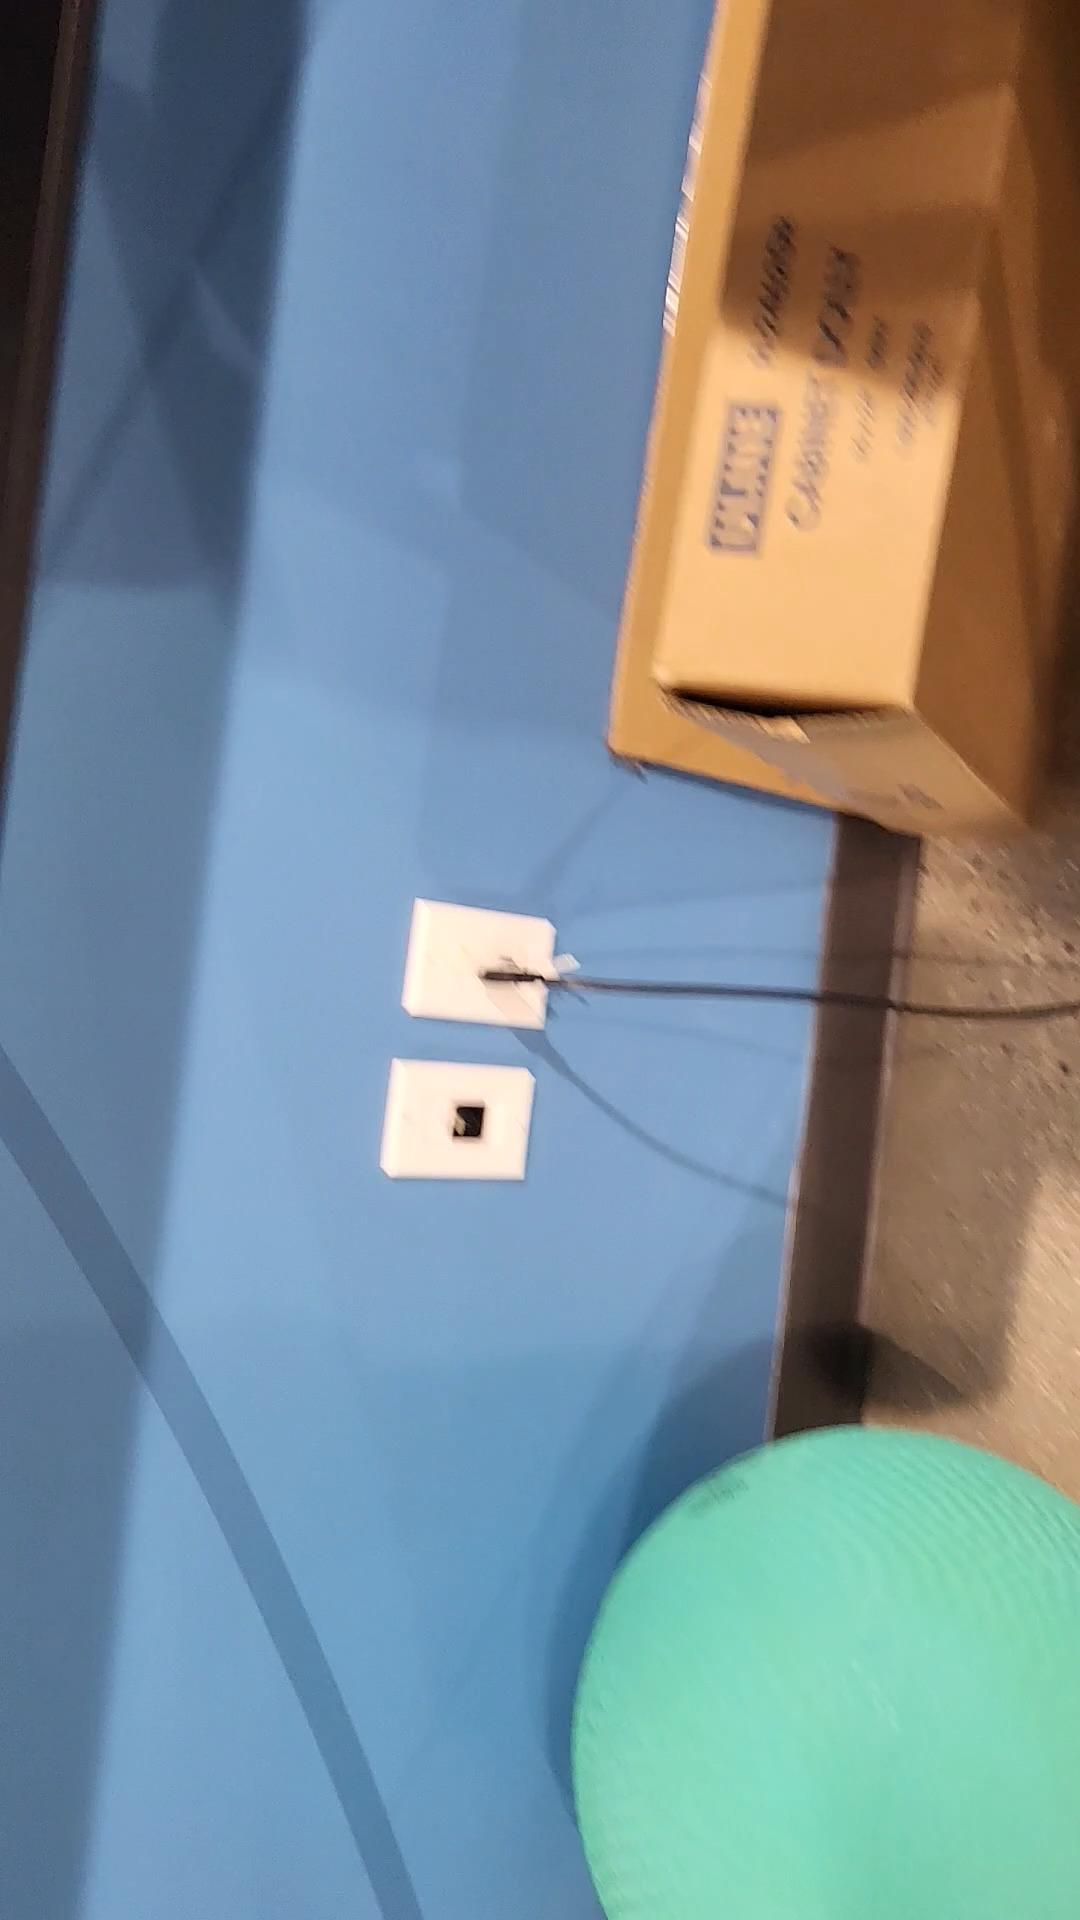algae: (572, 1429, 1080, 1920)
